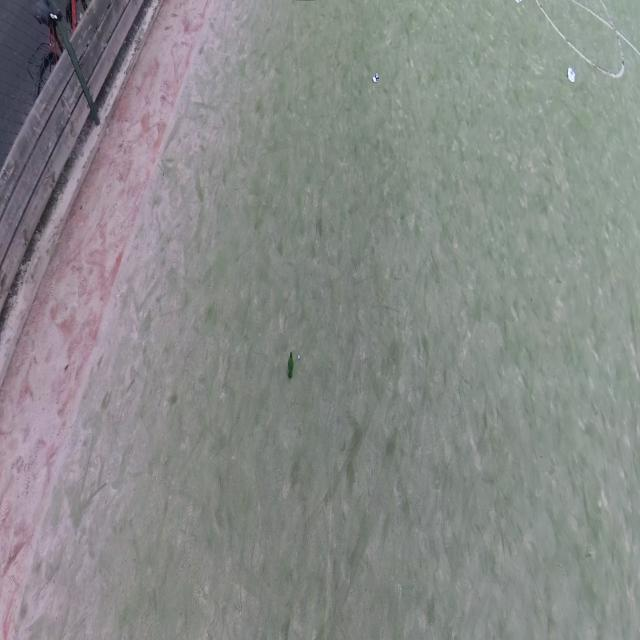rubbish: (287, 352, 294, 379), (567, 66, 576, 83), (372, 72, 379, 85), (514, 0, 523, 5), (298, 354, 299, 361)
